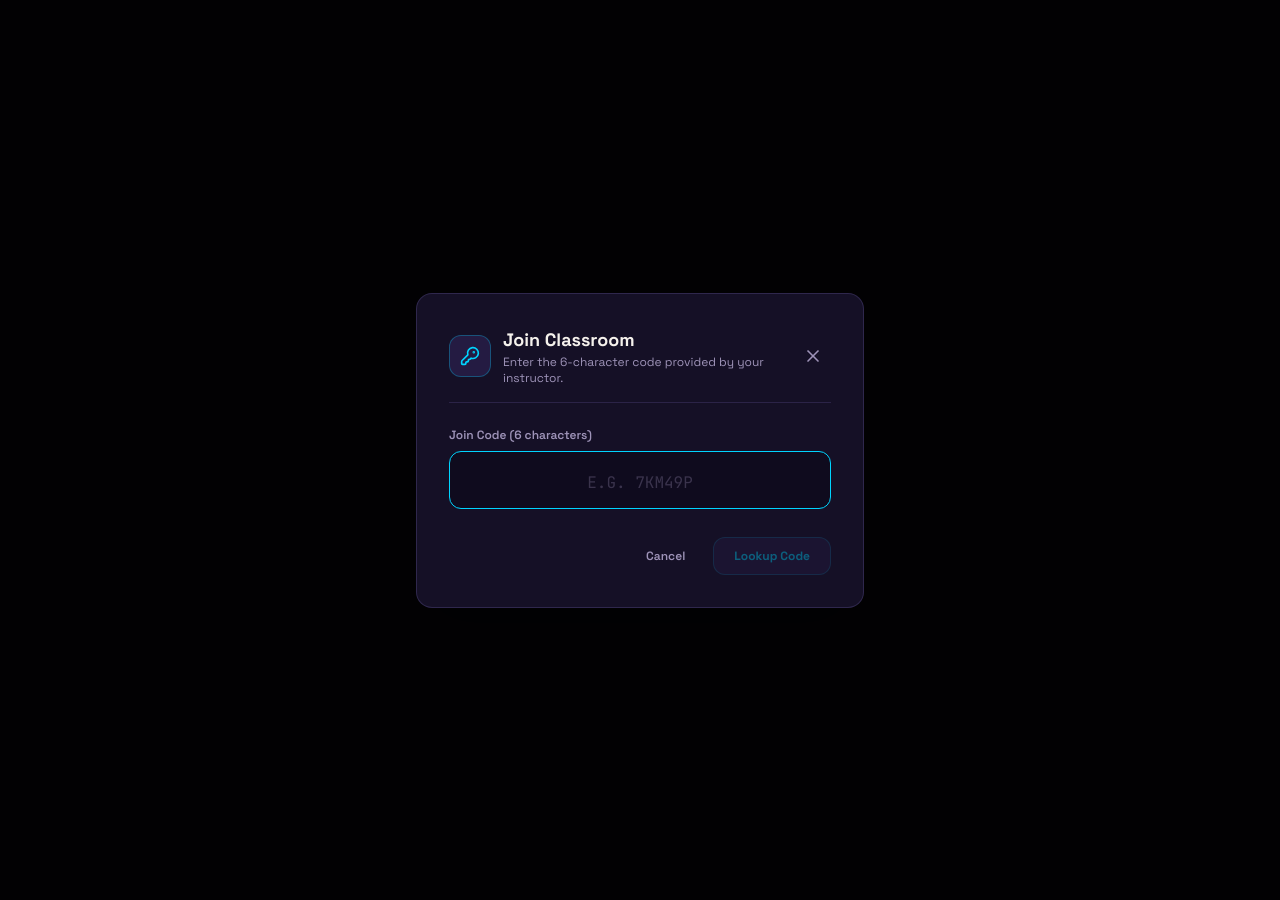
Classroom Entry & Management Flow (Parts B - G) › Part D: Join Code Normalization and Preview Confirmation › previews classroom confirmation before joining and provides uniform error message on failure
The width and height of the screenshot is (1280, 900).
Type "7km-49p" into the field with test id "join-code-input" at (640, 480), box x1=449 y1=450 x2=831 y2=508
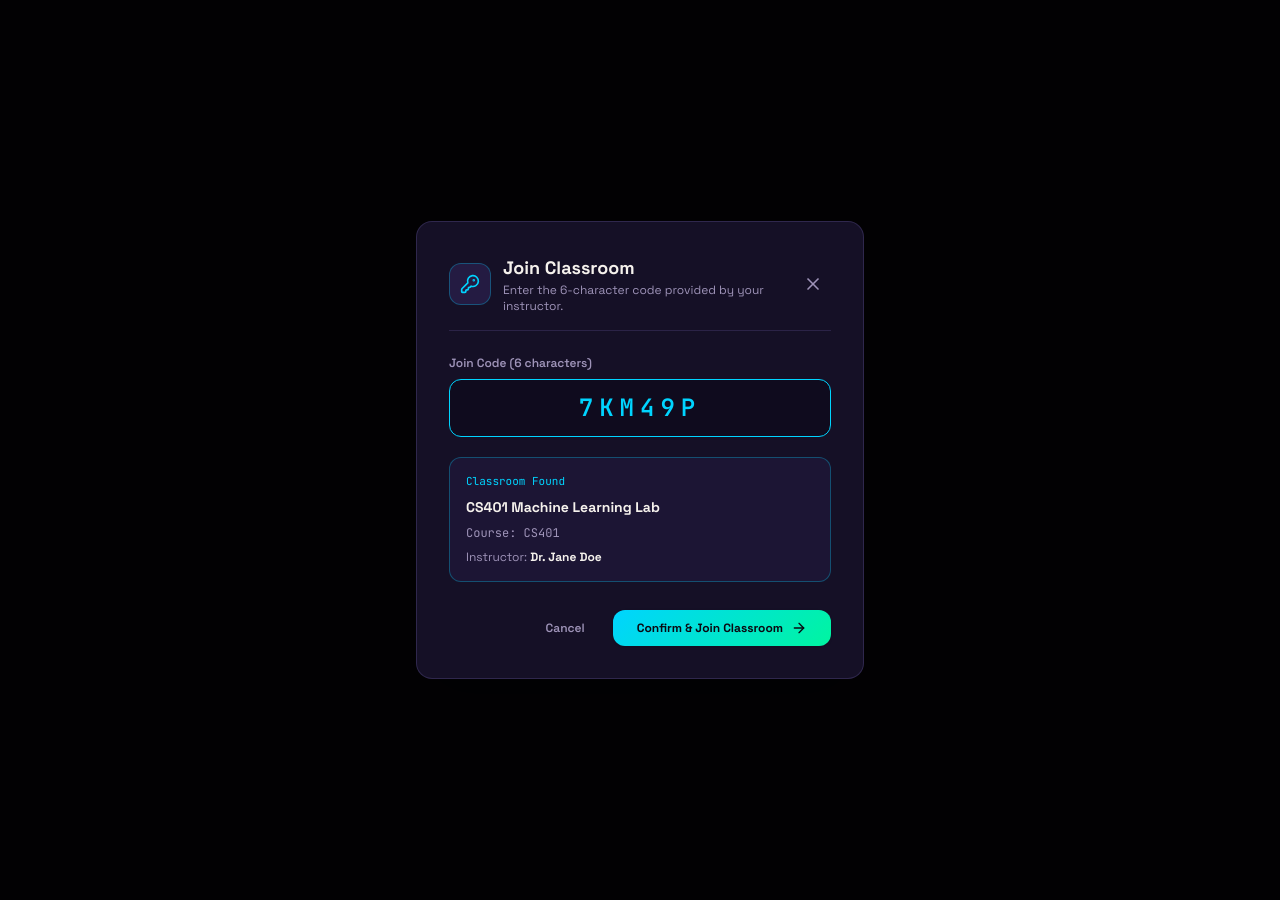
expect the field with test id "join-code-input" holds "7KM49P": met, box x1=449 y1=379 x2=831 y2=437
expect the element with test id "join-confirmation-preview" is shown: met, box x1=449 y1=457 x2=831 y2=582
expect the text "CS401 Machine Learning Lab" is shown: met, box x1=466 y1=498 x2=660 y2=516
